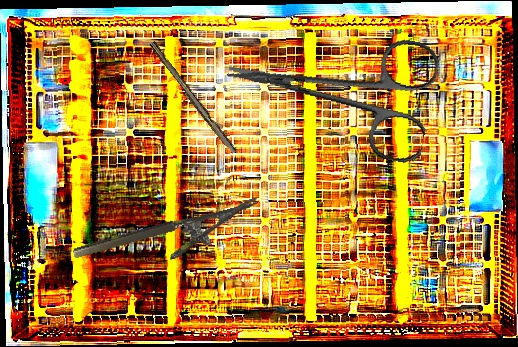Iris Scissors: (217, 7, 442, 166)
Needle Holder: (71, 197, 267, 284)
Scalpel Handle: (145, 41, 240, 156)
